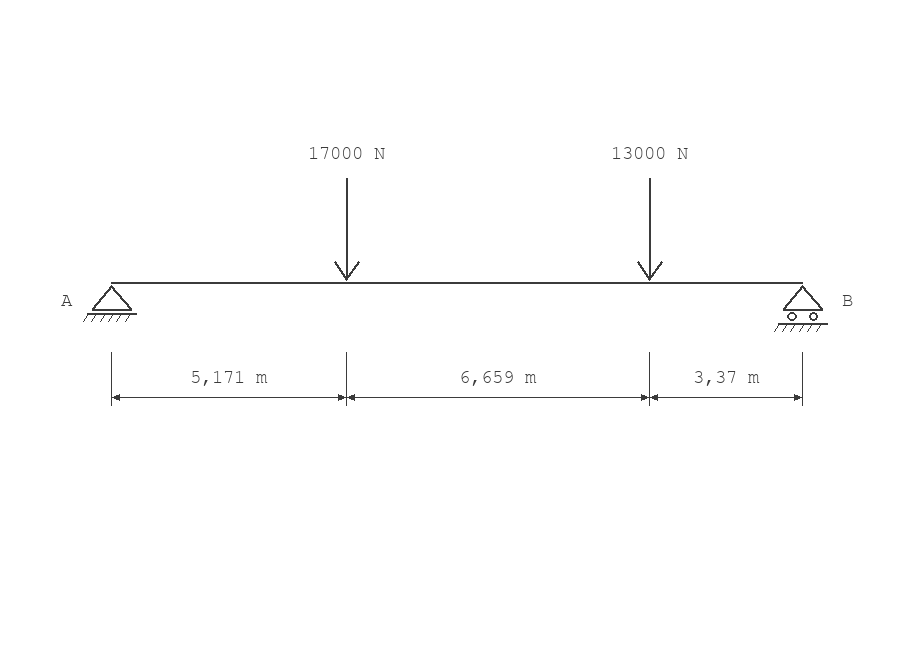pin_support: (83, 285, 137, 322)
point_load: (334, 178, 360, 281), (637, 178, 663, 281)
roller_support: (774, 285, 828, 332)
